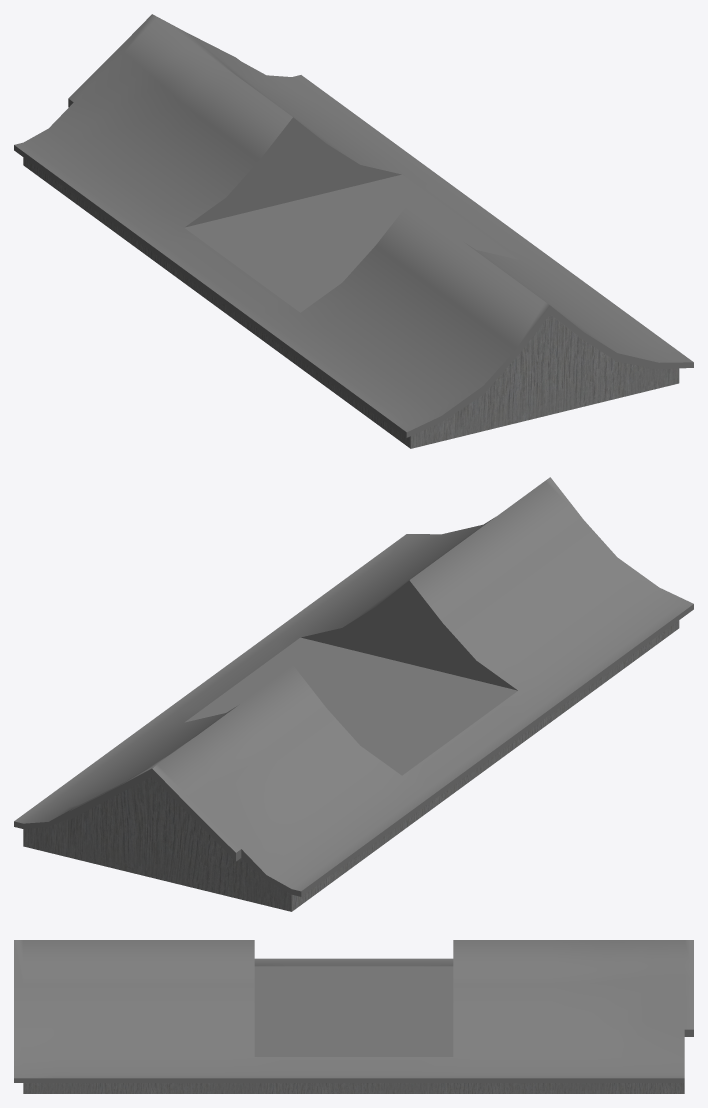
The model's file is CatRoof.obj.
The picture shows the model from 3 angles, top to bottom: view 1: azimuth 30°, elevation 25°; view 2: azimuth 150°, elevation 25°; view 3: azimuth 270°, elevation 25°; orthographic projection. The views are drawn at different scales.
Parts seen in each view (by area): view 1: polySurface18 polySurface17 polySurface6 polySurface4 polySurfac; view 2: polySurface18 polySurface17 polySurface6 polySurface4 polySurfac; view 3: polySurface18 polySurface17 polySurface6 polySurface4 polySurfac.
Part boxes in pixels (<box>): polySurface18 polySurface17 polySurface6 polySurface4 polySurfac: <box>14,14,693,448</box>; polySurface18 polySurface17 polySurface6 polySurface4 polySurfac: <box>14,477,693,911</box>; polySurface18 polySurface17 polySurface6 polySurface4 polySurfac: <box>14,940,693,1093</box>.
Size of the model in its own units: 107 by 40.82 by 257.
Materials: 2 (1 with a texture image).
